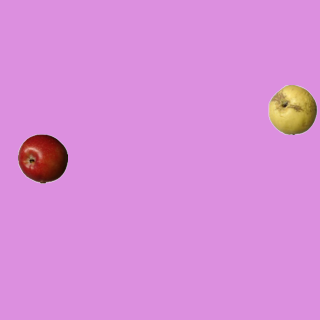Apple Braeburn: (17, 133, 67, 183)
Apple Golden 1: (267, 84, 317, 134)
